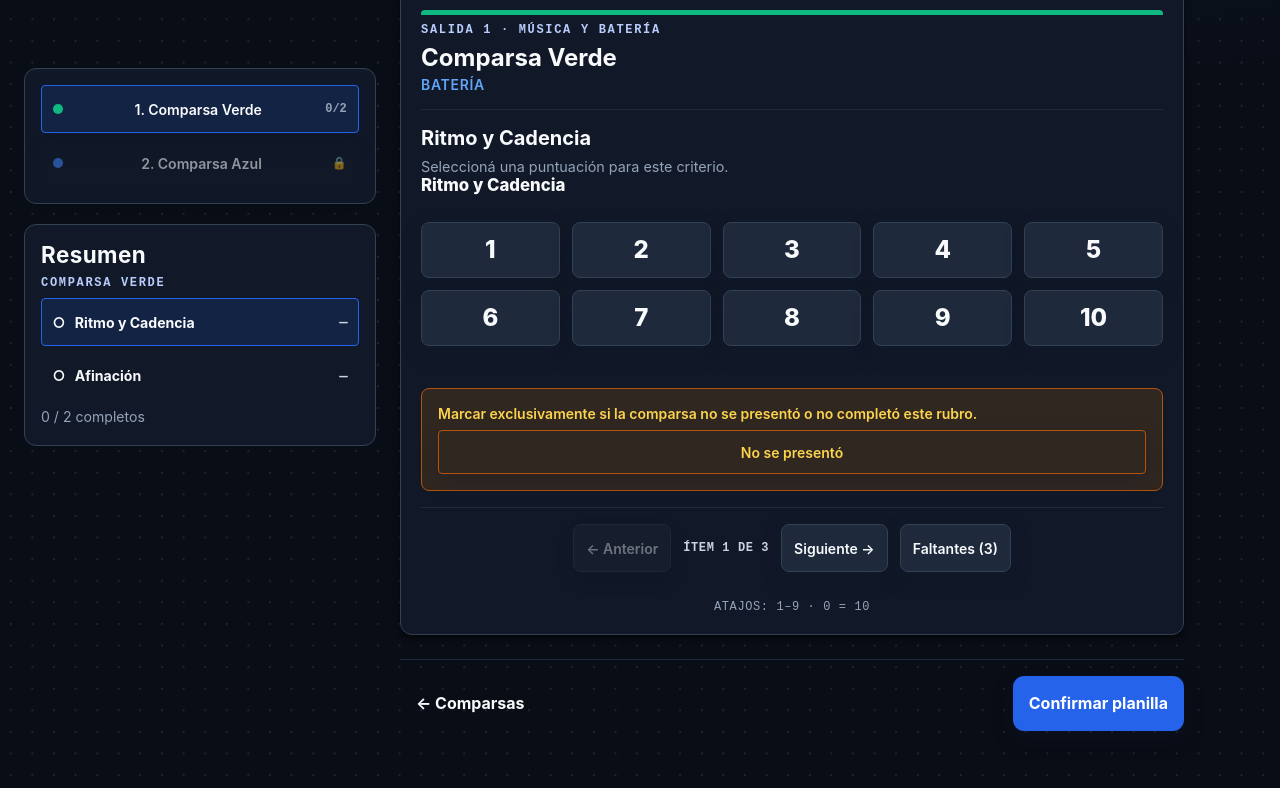
JudgeBallotPage v3 (Spec 021) › no regresa a la primera tarjeta al confirmar un voto en modo tarjeta
(page scrolled)
Check: the heading "Comparsa Verde" is shown, box [421,43,617,72]
Check: the heading "Ritmo y Cadencia" is shown, box [421,126,591,150]
Avanzar a la segunda tarjeta (Afinación)
Click the button with aria-label "Ítem siguiente": (834, 548) [781,524,888,572]
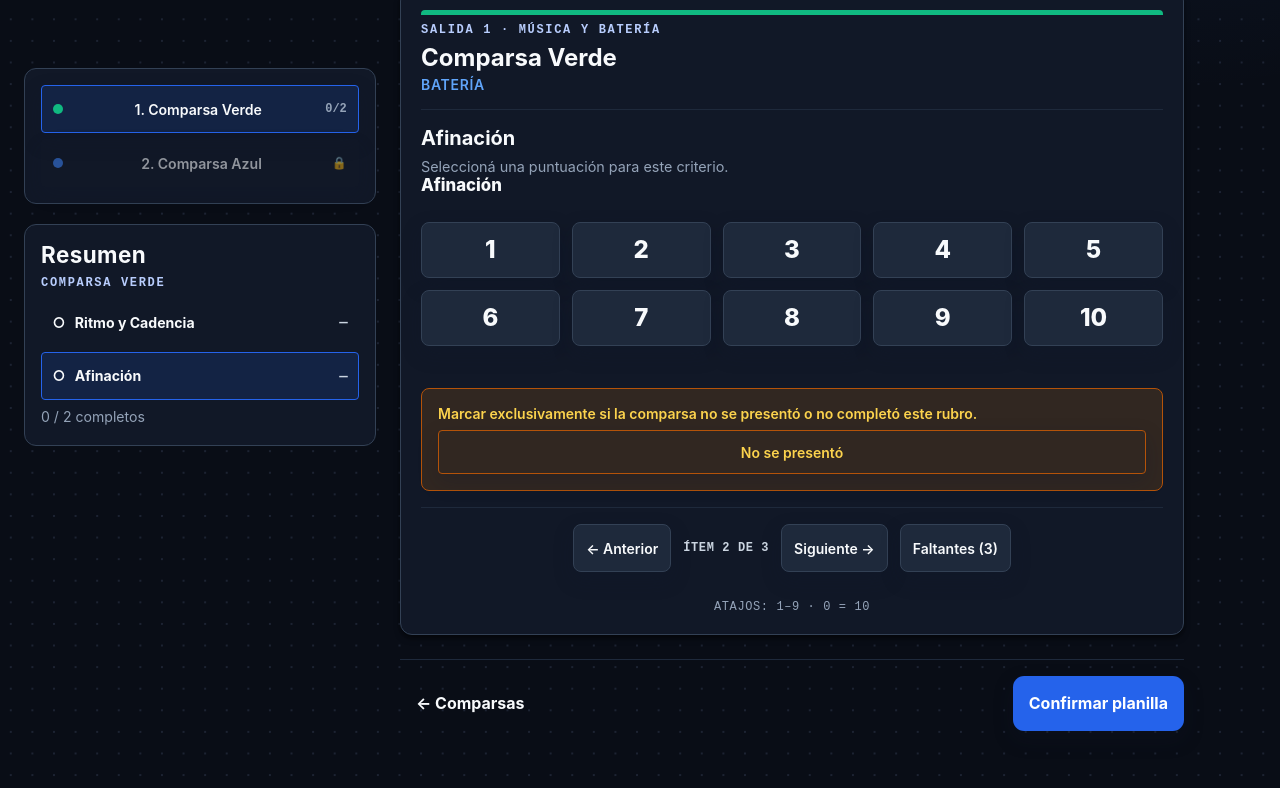
Check: the heading "Afinación" is shown, box [421,126,515,150]
Votar 7 y confirmar en el modal
Click the button named "Votar 7": (641, 318) [572,290,711,346]
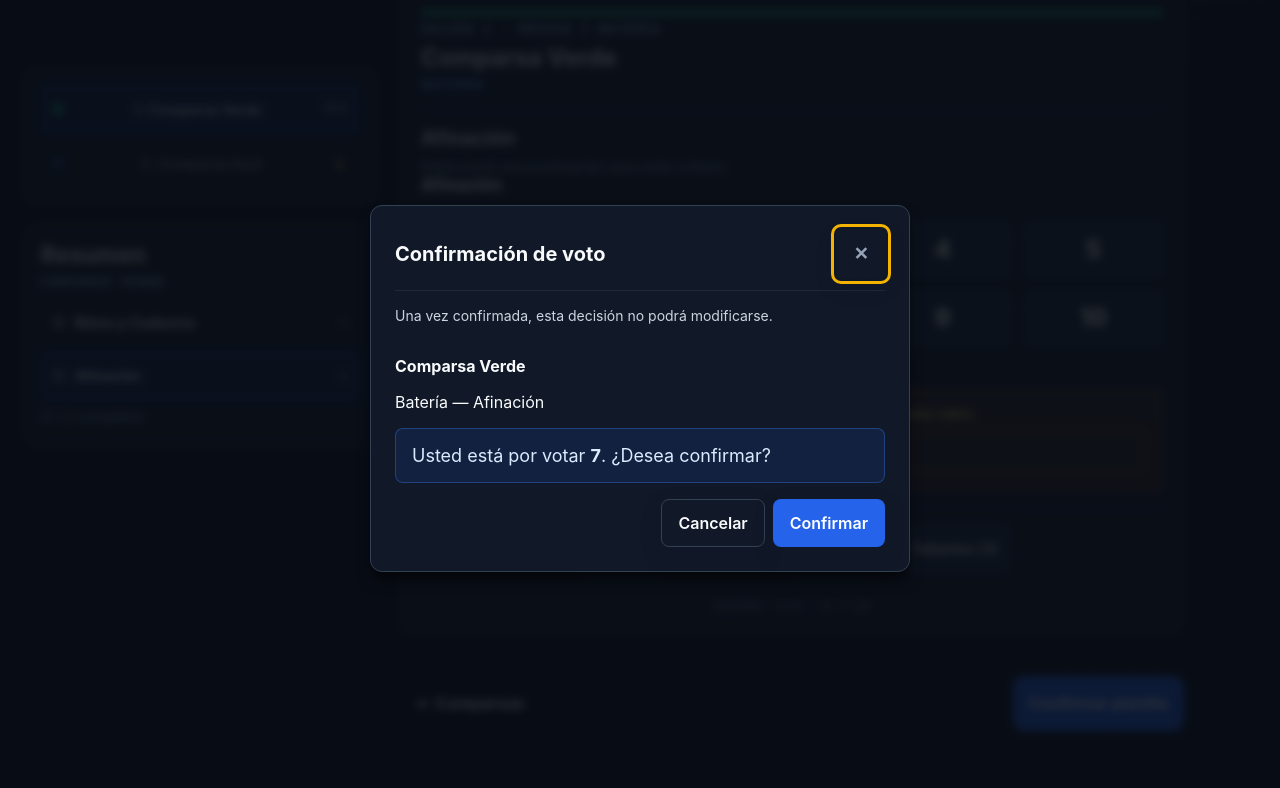
Click the button "Confirmar": (829, 522) [773,498,885,546]
(page scrolled)
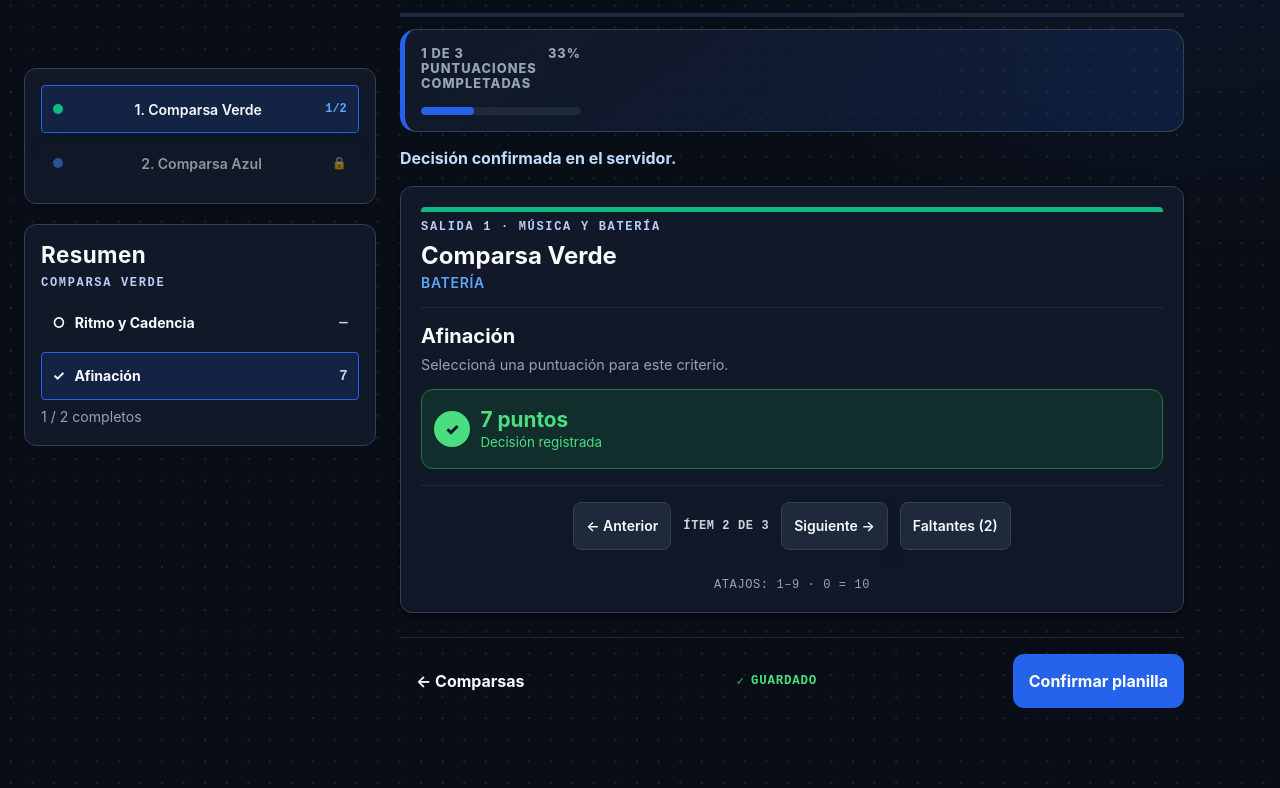
Check: the heading "Afinación" is shown, box [421,324,515,348]
Check: the text "Decisión registrada" is shown, box [480,434,602,450]
